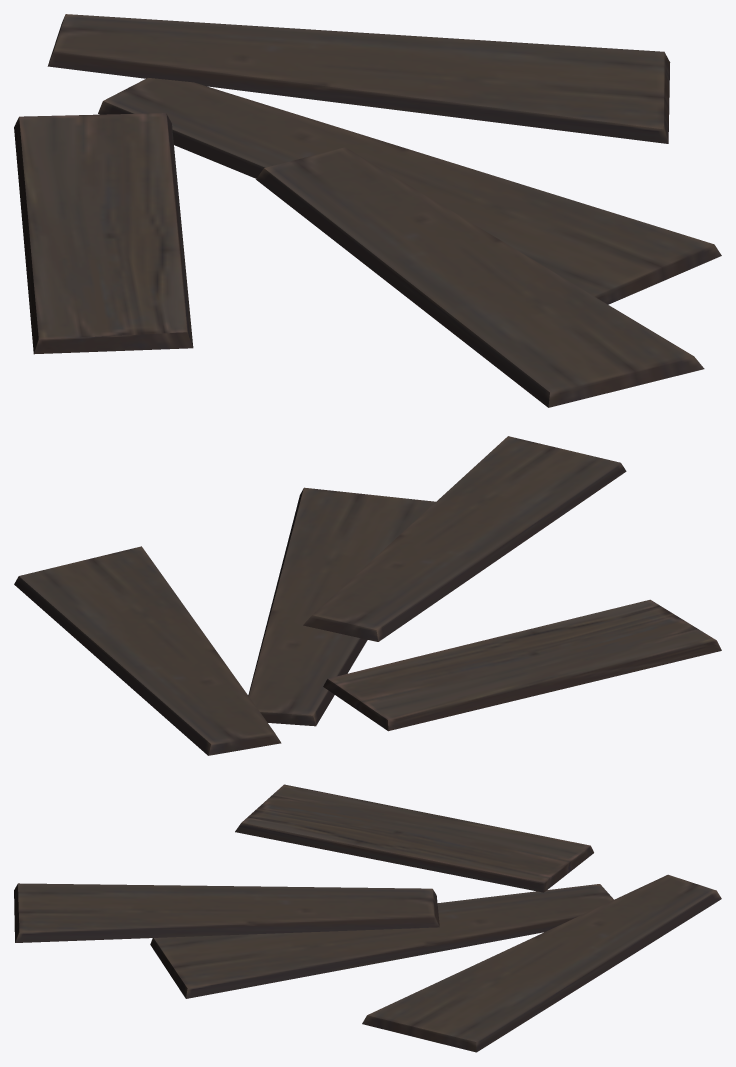
The model's file is Area_07_12.fbx.
3 views of the same model, one above another, from view 1: azimuth 30°, elevation 25°; view 2: azimuth 150°, elevation 25°; view 3: azimuth 270°, elevation 25° (orthographic). The views are drawn at different scales.
Parts seen in each view (by area): view 1: Area_07_12; view 2: Area_07_12; view 3: Area_07_12.
Boxes of the visible parts, x1,y1,x2,y2 form: Area_07_12: (14,14,721,407); Area_07_12: (14,436,721,755); Area_07_12: (14,784,721,1052).
Bounding box in the file's own units: 312 × 9.81 × 358.
